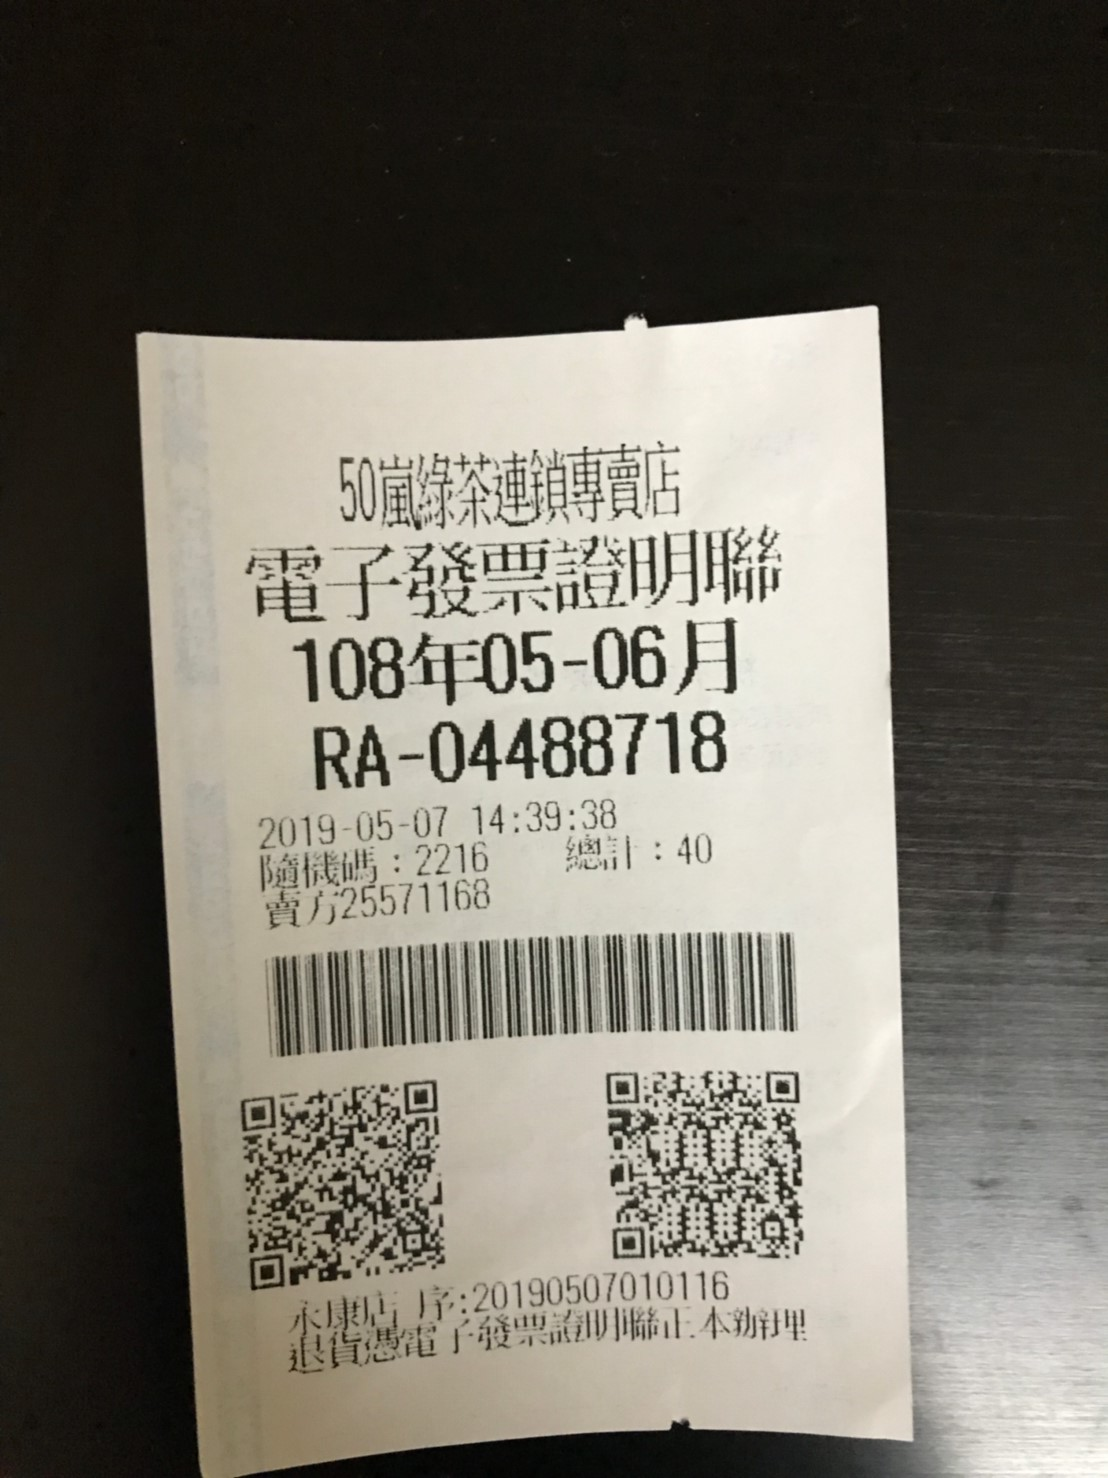Date_New: (289, 614, 743, 708)
Number_New: (422, 708, 737, 783)
